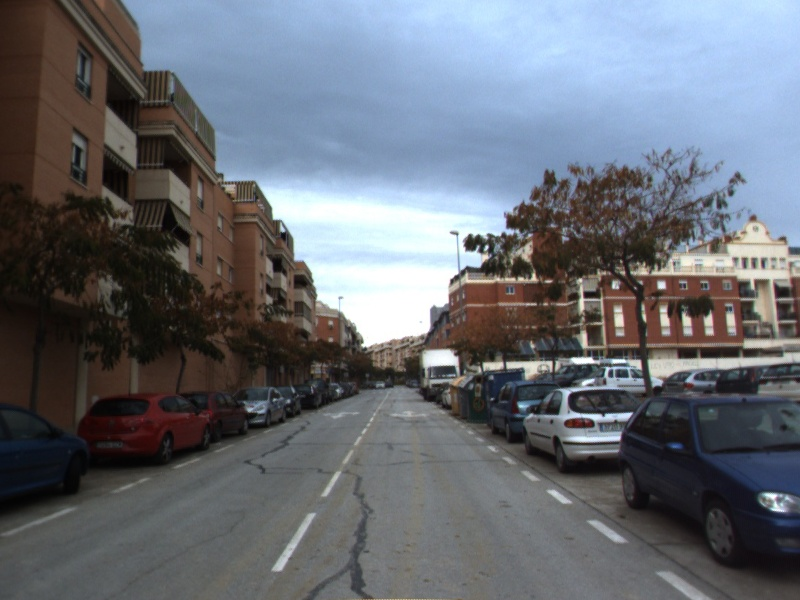STRAIGHT_LEFT_RIGHT: (387, 408, 430, 420)
